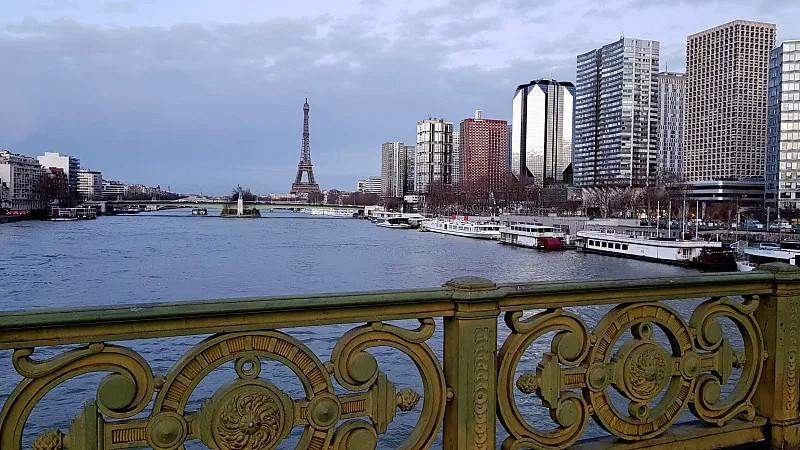Eiffel: (290, 96, 320, 195)
